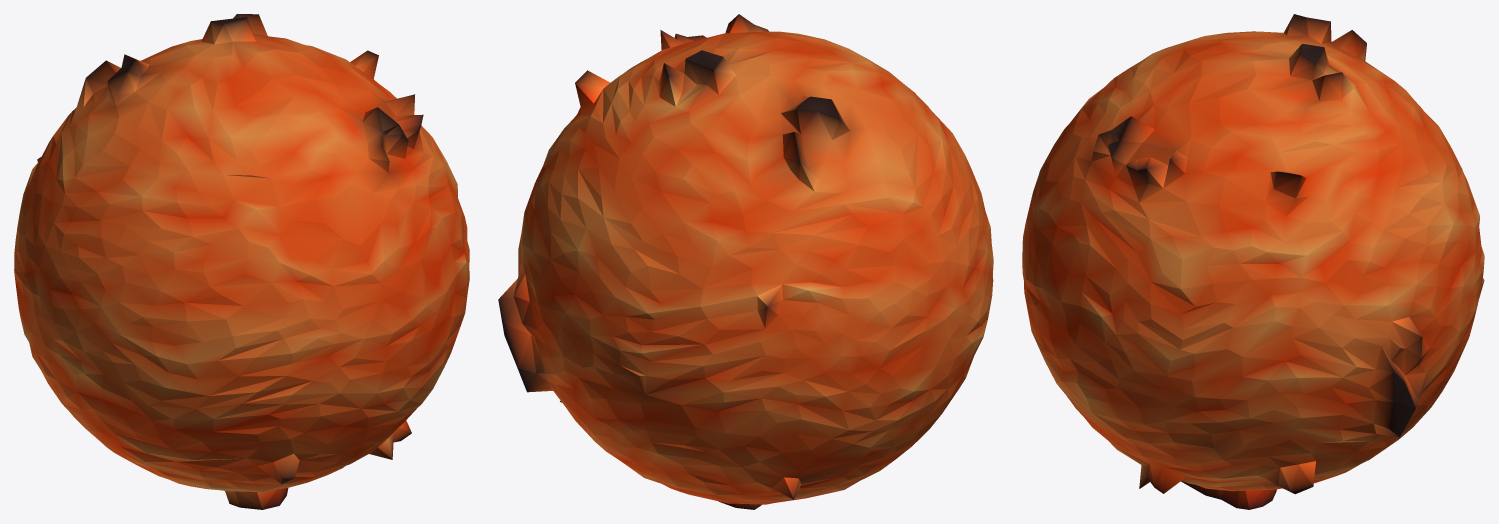
Rendered from barren_30.fbx.
3 renders of one model, left to right at view 1: azimuth 30°, elevation 25°; view 2: azimuth 150°, elevation 25°; view 3: azimuth 270°, elevation 25°, orthographic. The views are drawn at different scales.
Parts seen in each view (by area): view 1: filecache1; view 2: filecache1; view 3: filecache1.
Boxes of the visible parts, x1,y1,x2,y2 form: filecache1: [14, 14, 469, 509]; filecache1: [498, 14, 993, 509]; filecache1: [1022, 14, 1484, 509].
Size of the model in its own units: 2.02 by 2.19 by 2.03.
